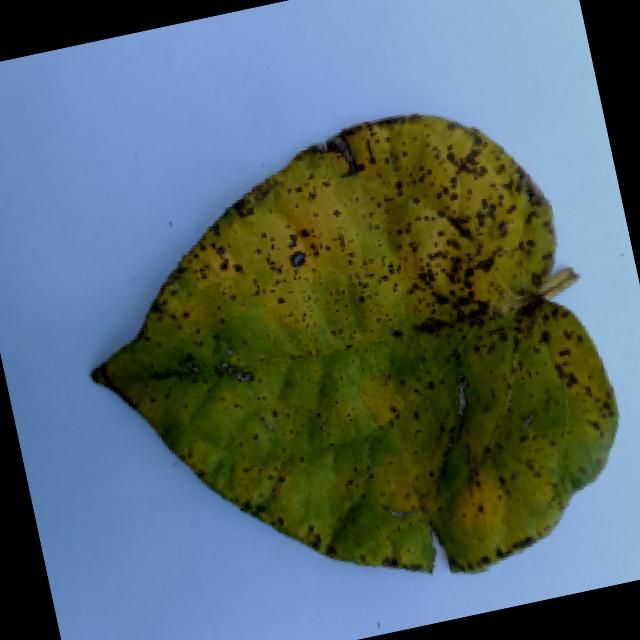slow-decline: (37, 81, 640, 640)
